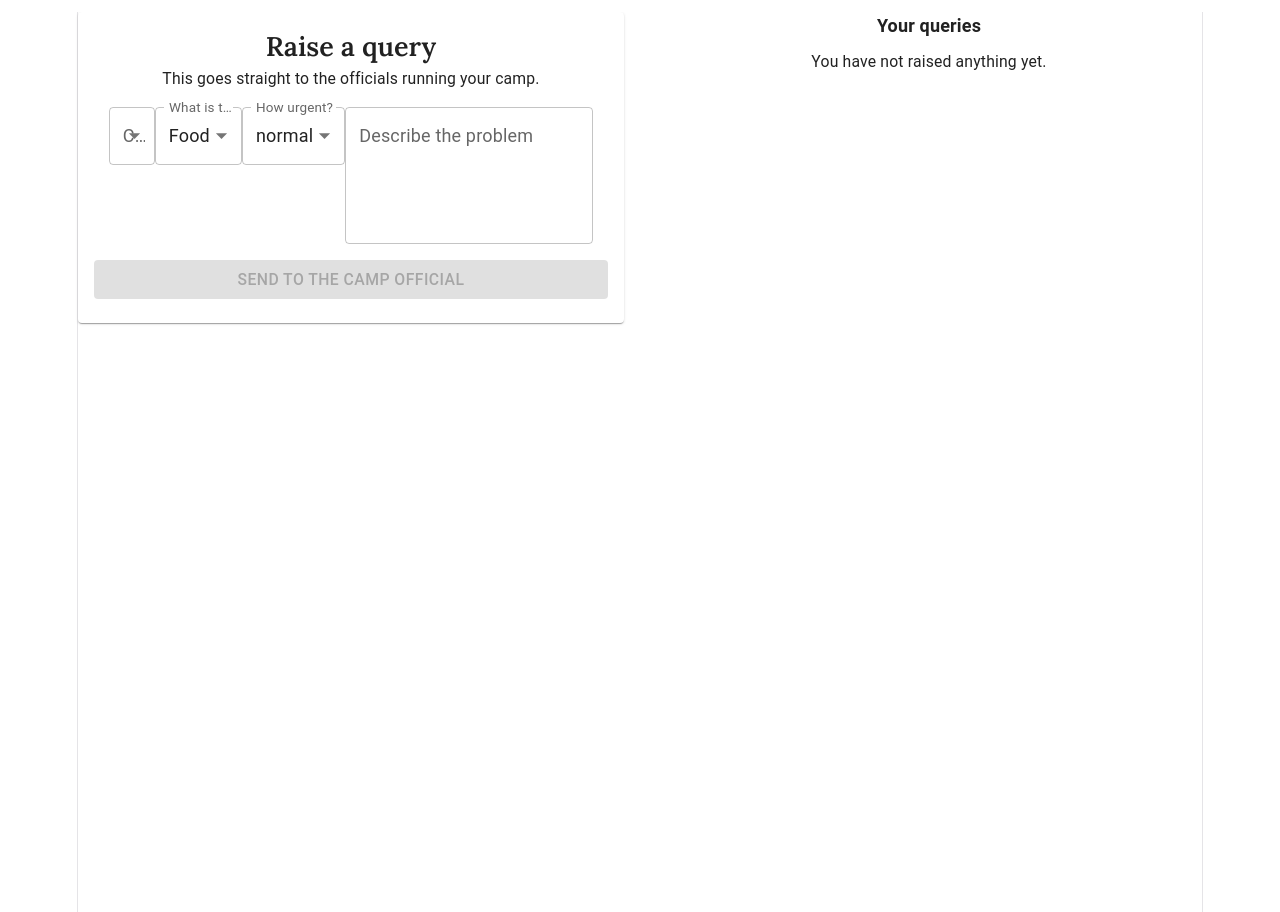
Scenario: RaiseComplaintPage › confirms with the complaint code once sent
Click the dropdown named "camp": (132, 136) [109,106,155,165]
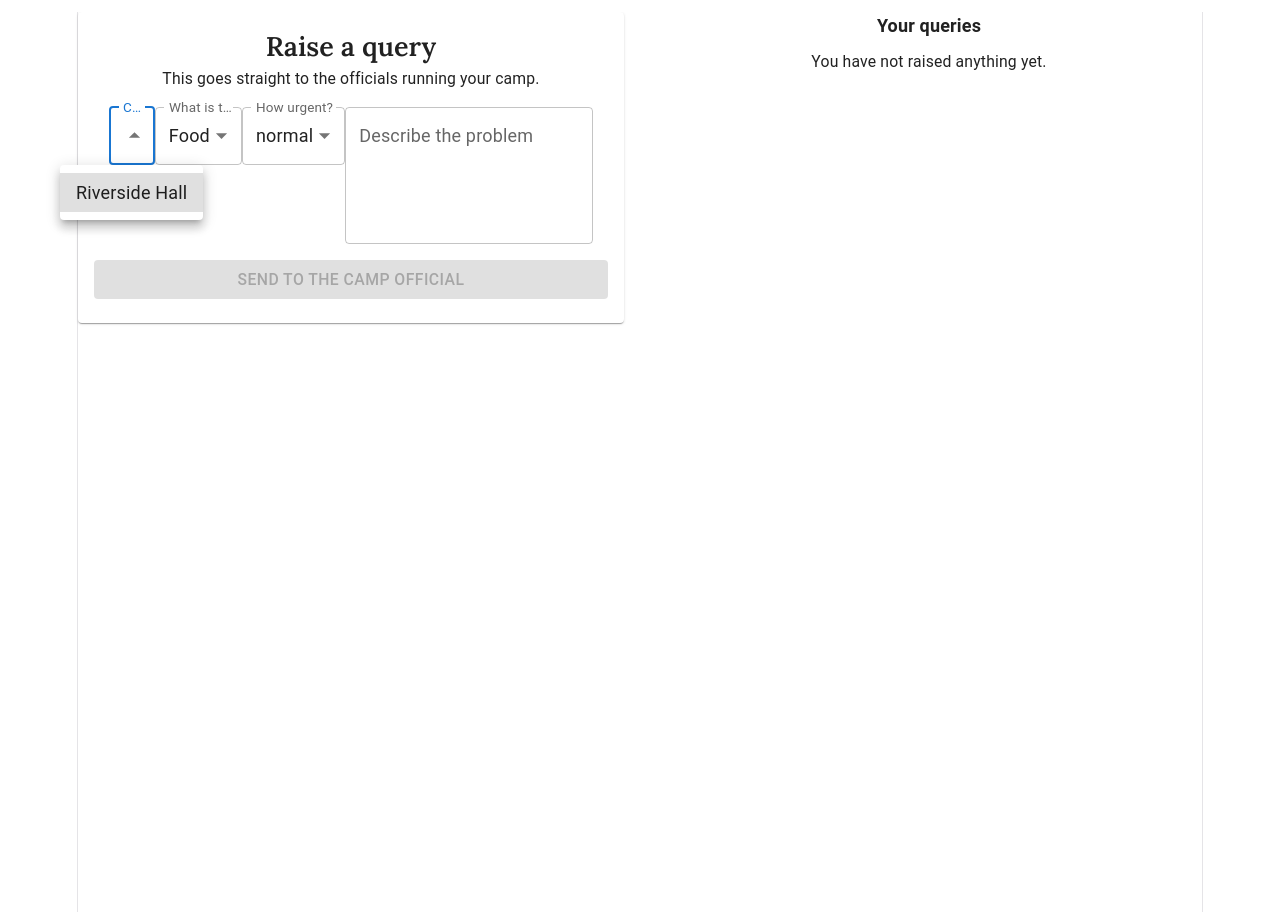
Click the option "Riverside Hall": (132, 192) [60,173,203,212]
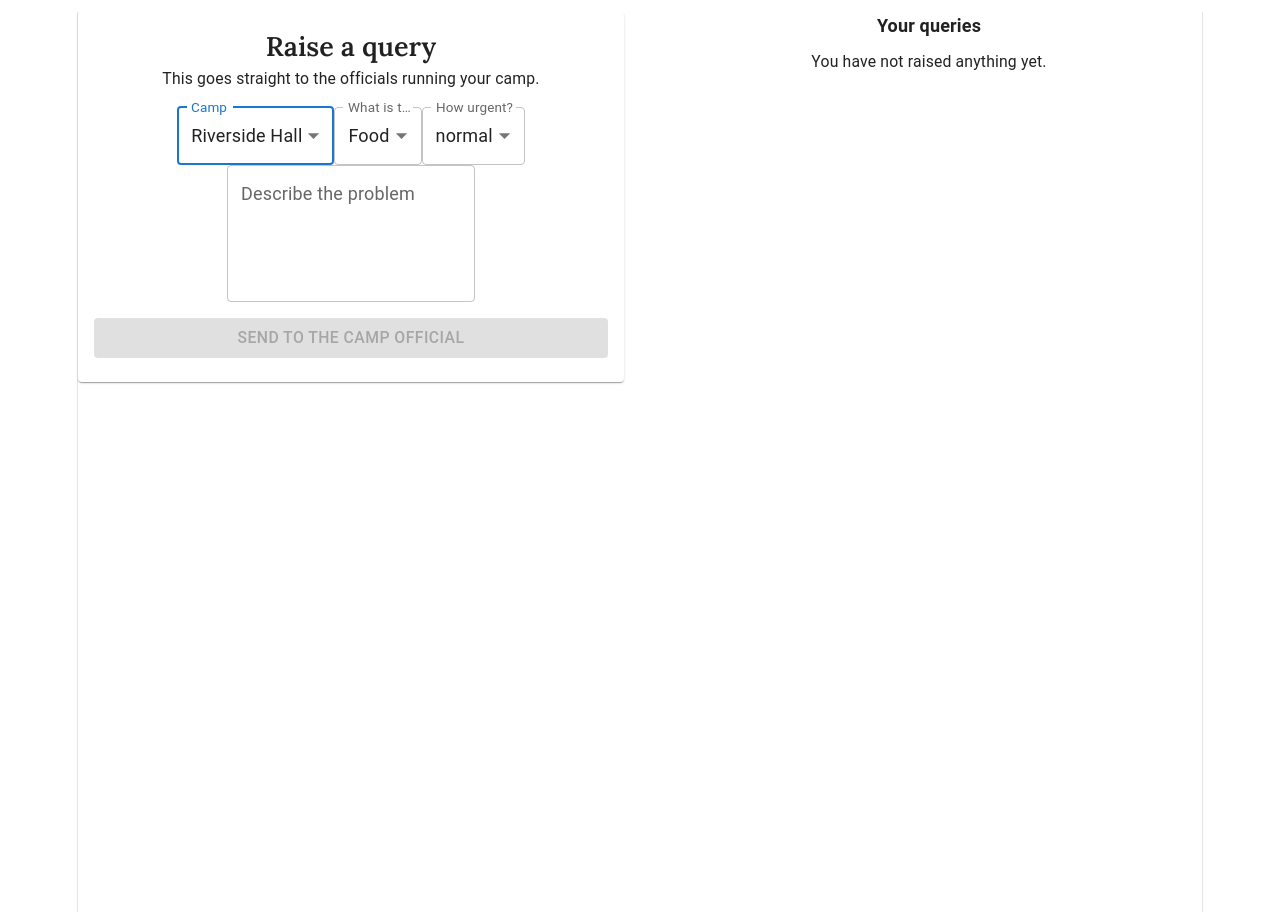
In the text box labelled "Describe the problem": (351, 234) [241,182,461,286], type "The water point is dry."
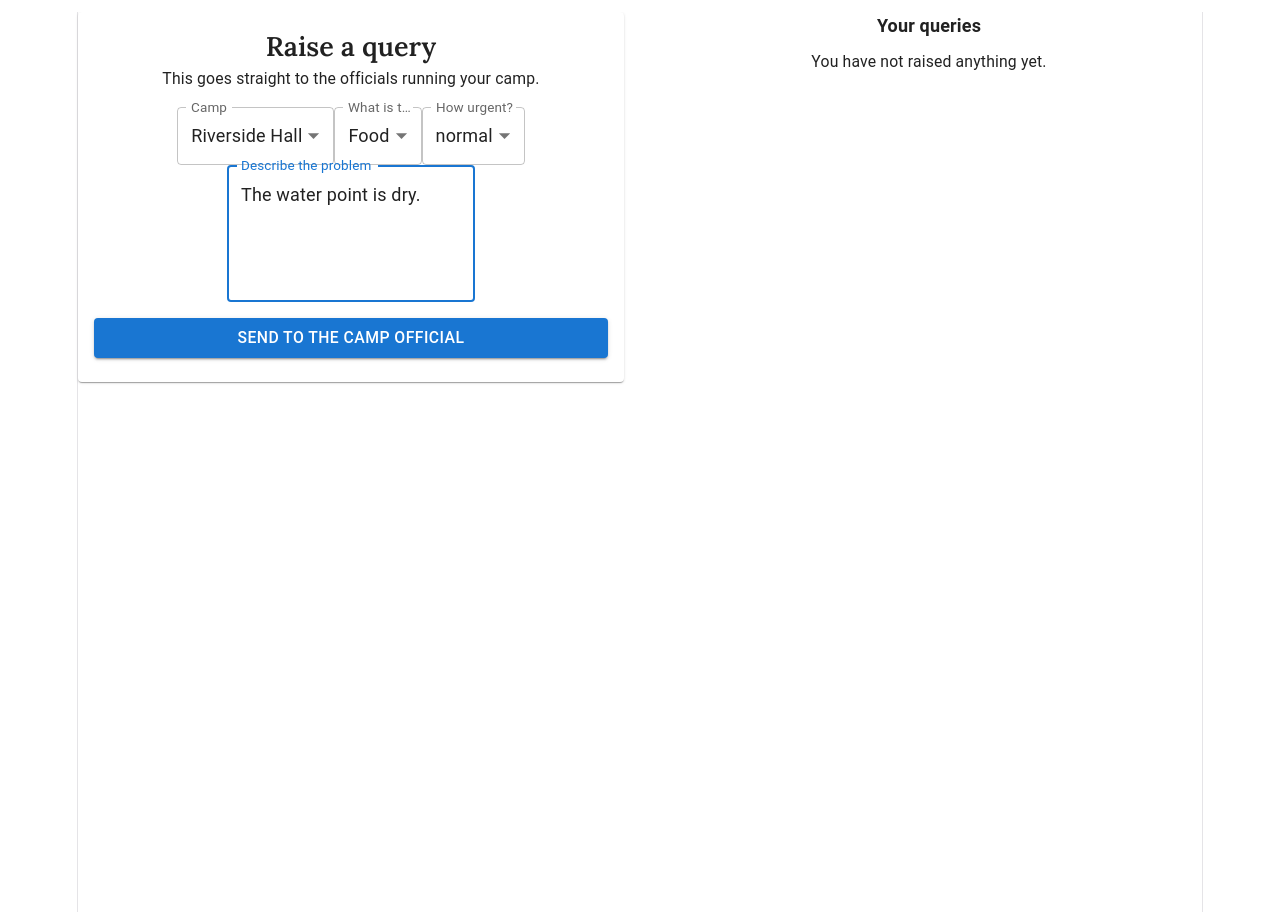
Click the button "Send to the camp official": (351, 338) [94,318,608,358]
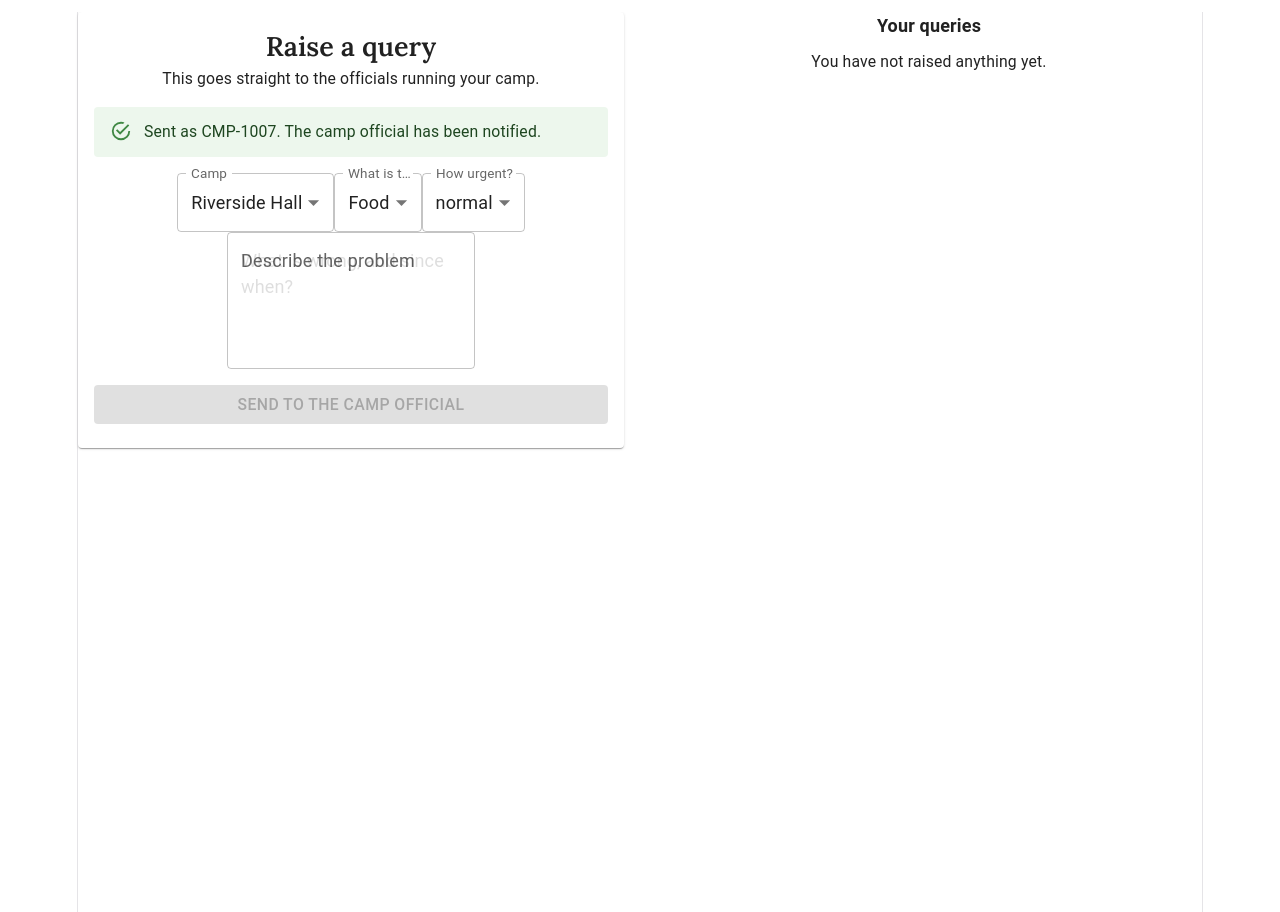
Expected: the text "Sent as CMP-1007. The camp official has been notified." is shown, [144,122,541,140]
